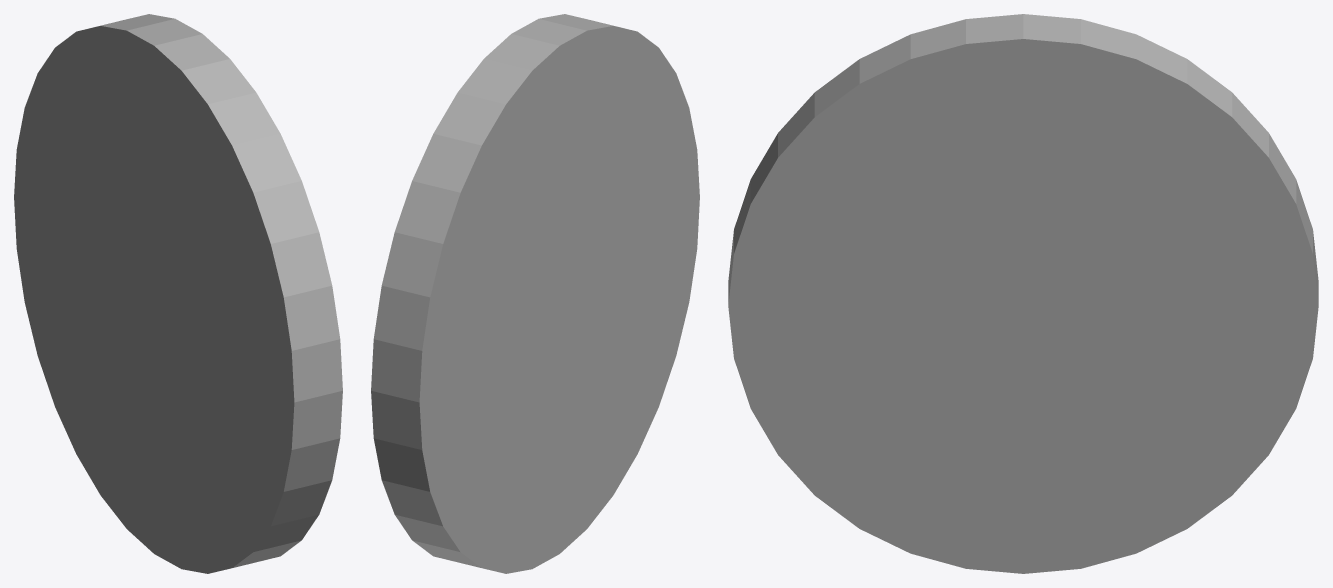
File: syutokukoin1.obj
3 views of the same model, side by side, from view 1: azimuth 30°, elevation 25°; view 2: azimuth 150°, elevation 25°; view 3: azimuth 270°, elevation 25° (orthographic). The views are drawn at different scales.
Parts seen in each view (by area): view 1: 円柱; view 2: 円柱; view 3: 円柱.
Boxes of the visible parts, x1,y1,x2,y2 form: 円柱: (14, 14, 342, 573); 円柱: (371, 14, 699, 573); 円柱: (728, 14, 1318, 573).
Size of the model in its own units: 0.1 by 1 by 1.
Materials: 1 (1 with a texture image).
